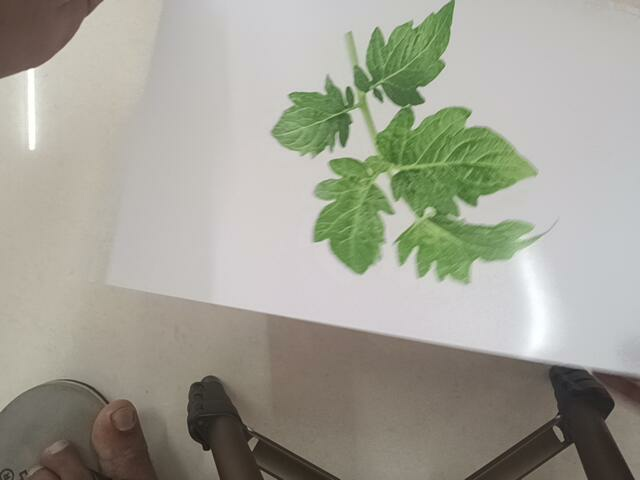Tomamto_Leaf_Healthy: (266, 9, 561, 273)
